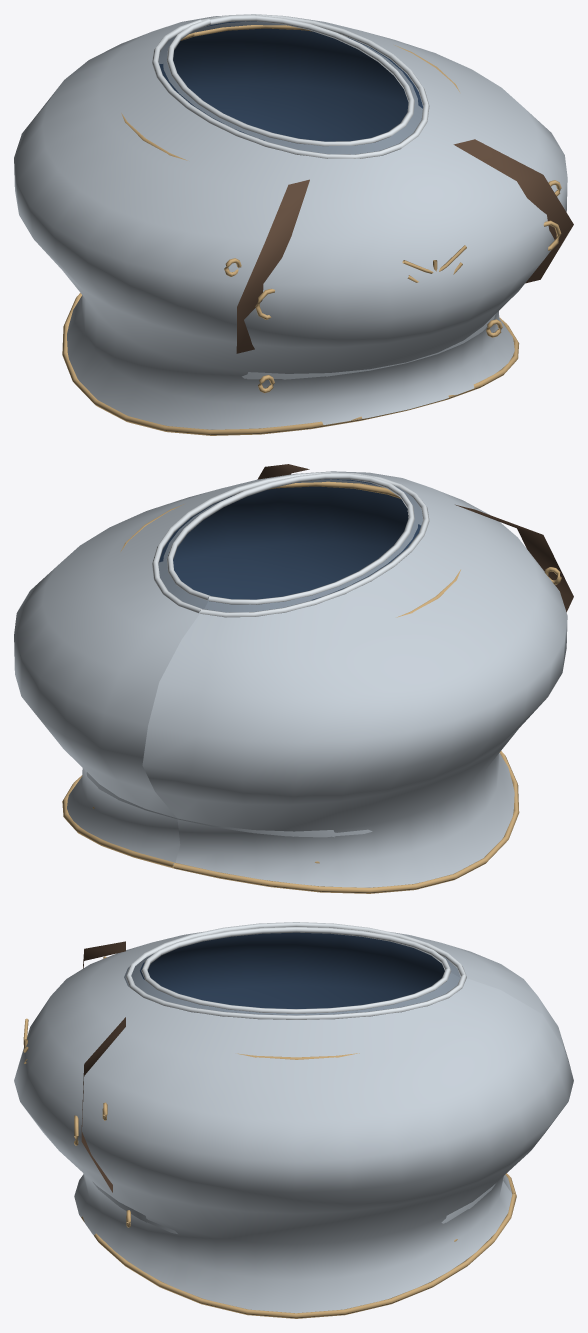
Rendered from chest.glb.
The picture shows the model from 3 angles, top to bottom: view 1: azimuth 30°, elevation 25°; view 2: azimuth 150°, elevation 25°; view 3: azimuth 270°, elevation 25°; orthographic projection. The views are drawn at different scales.
Parts seen in each view (by area): view 1: forged_breastplate, navy_undercoat, leather_strap (×2), gorget_bevel, forged_breastplate_bevel, forged_breastplate_gold_rim, gorget, abdominal_lame, gorget_gold_rim; view 2: forged_breastplate, navy_undercoat, gorget_bevel, forged_breastplate_gold_rim, forged_breastplate_bevel, gorget, leather_strap, abdominal_lame, gorget_gold_rim; view 3: forged_breastplate, navy_undercoat, gorget_bevel, forged_breastplate_bevel, forged_breastplate_gold_rim, gorget, leather_strap (×2), abdominal_lame.
Boxes of the visible parts, bbox=[...] form: forged_breastplate: bbox=[14, 15, 567, 429]; navy_undercoat: bbox=[159, 21, 422, 141]; leather_strap (×2): bbox=[236, 139, 573, 353]; gorget_bevel: bbox=[166, 15, 414, 146]; forged_breastplate_bevel: bbox=[152, 14, 429, 158]; forged_breastplate_gold_rim: bbox=[62, 293, 519, 435]; gorget: bbox=[158, 21, 422, 155]; abdominal_lame: bbox=[242, 314, 495, 379]; gorget_gold_rim: bbox=[121, 25, 459, 160]; forged_breastplate: bbox=[14, 471, 567, 887]; navy_undercoat: bbox=[159, 479, 420, 600]; gorget_bevel: bbox=[166, 473, 414, 604]; forged_breastplate_gold_rim: bbox=[62, 751, 519, 893]; forged_breastplate_bevel: bbox=[152, 472, 429, 617]; gorget: bbox=[158, 479, 422, 612]; leather_strap: bbox=[455, 504, 573, 612]; abdominal_lame: bbox=[86, 772, 372, 837]; gorget_gold_rim: bbox=[120, 481, 460, 617]; forged_breastplate: bbox=[14, 932, 573, 1313]; navy_undercoat: bbox=[140, 932, 444, 1008]; gorget_bevel: bbox=[141, 927, 451, 1013]; forged_breastplate_bevel: bbox=[125, 922, 466, 1019]; forged_breastplate_gold_rim: bbox=[81, 1173, 516, 1318]; gorget: bbox=[124, 953, 460, 1015]; leather_strap (×2): bbox=[81, 941, 125, 1192]; abdominal_lame: bbox=[92, 1181, 495, 1233].
Bounding box in the file's own units: 1.96 × 1.1 × 2.14.
